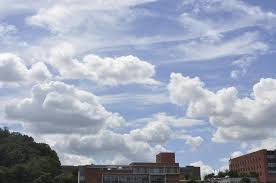sky: (2, 1, 274, 147)
tree: (3, 130, 65, 183)
